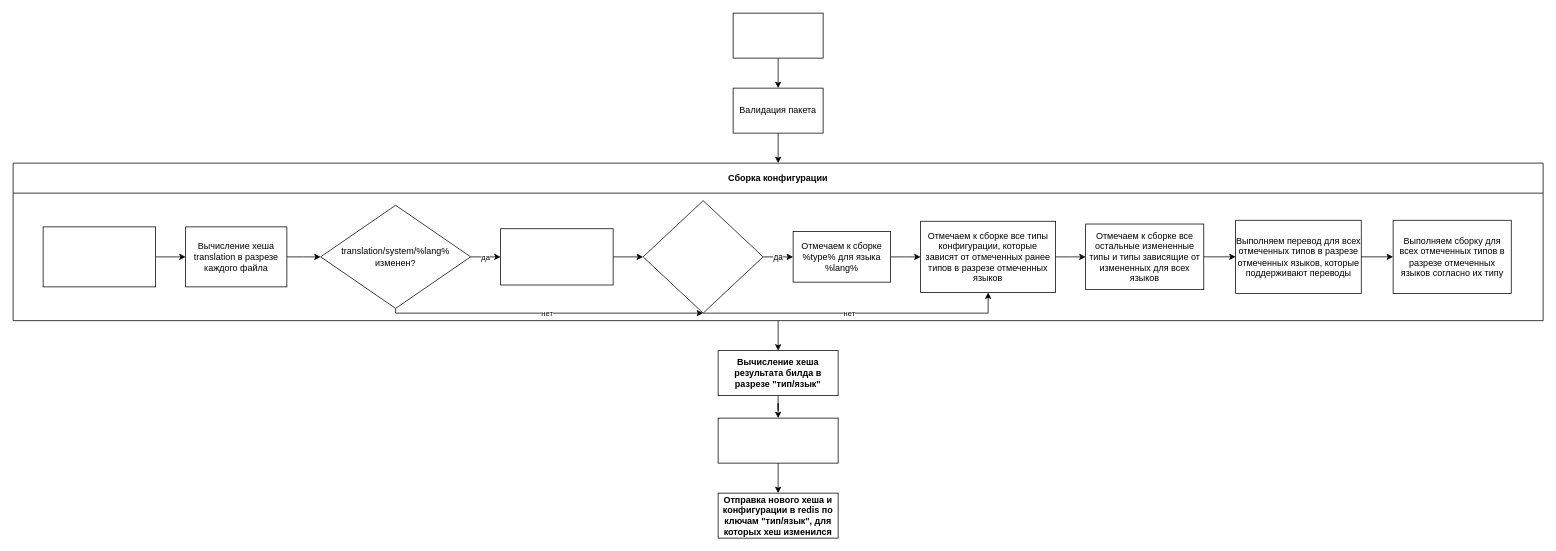
The diagram is 1556 pixels wide and 551 high, and some of its shapes have lost their labels. The shapes that lost their labels are listed below. From the top down, each one's centre as x and y in pixels, then its label:
At point (777, 35): "Индексация пакета".
At point (99, 256): "Вычисление хеша по исходному содержимому пакета в разрезе каждого типа".
At point (556, 256): "Отмечаем к сборке все типы, поддерживающие переводы, для языка %lang%".
At point (702, 256): "translation/%type%/%lang% изменен?".
At point (777, 440): "Получение хеша установленной конфигурации из redis".
